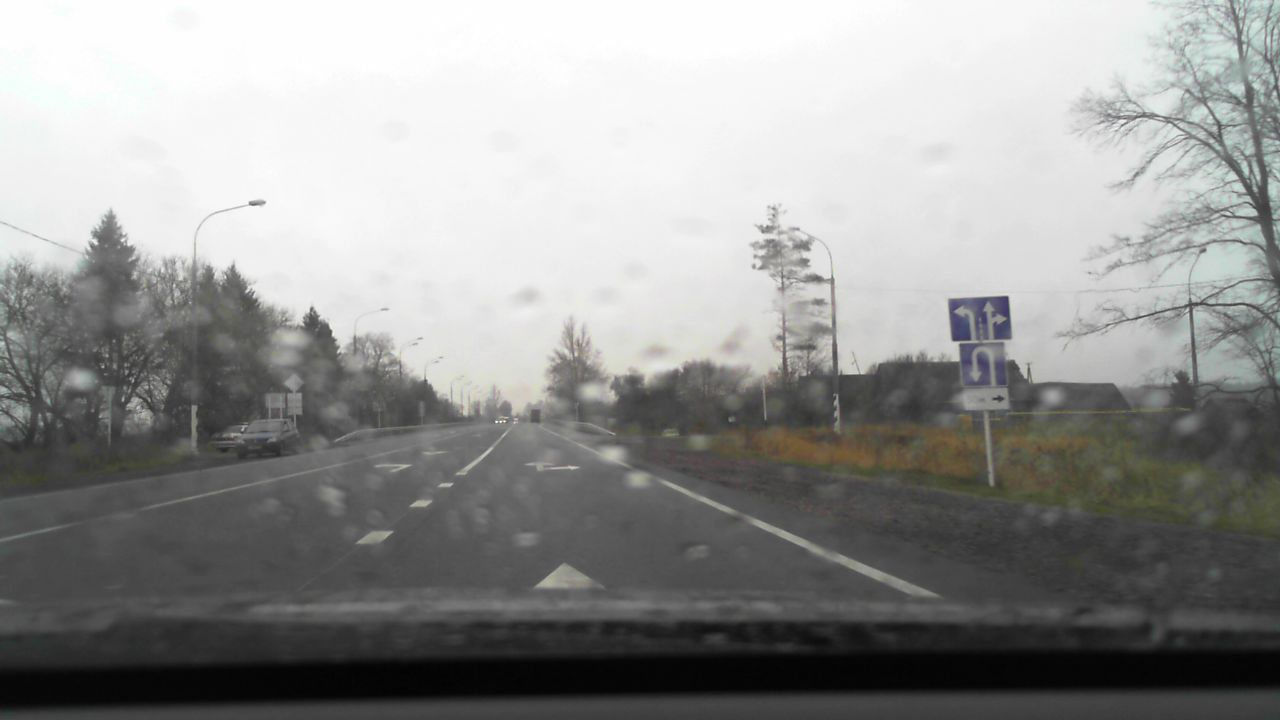U-turn: (960, 343, 1007, 387)
